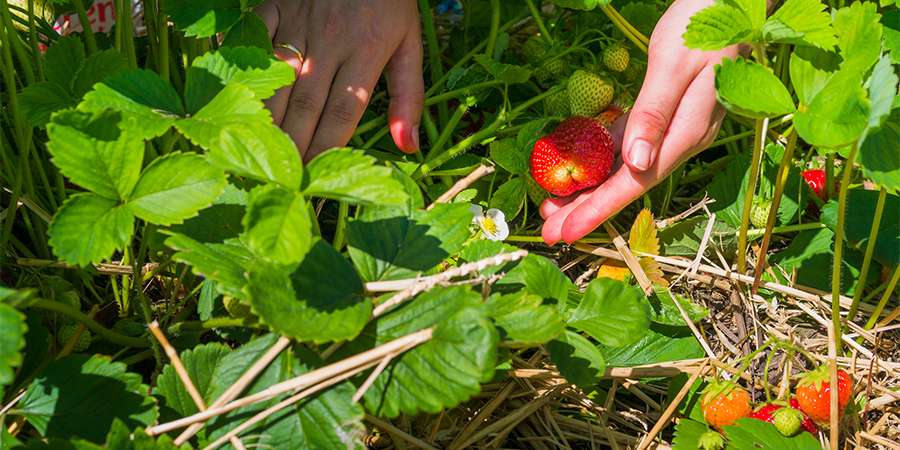ripe_strawberry: (523, 112, 620, 199), (793, 363, 857, 432), (700, 380, 756, 436), (796, 167, 841, 205)
unripe_strawberry: (747, 399, 820, 445), (521, 30, 568, 93), (30, 285, 84, 335), (568, 68, 615, 121), (56, 316, 96, 355), (526, 164, 552, 207), (749, 193, 777, 231), (771, 406, 805, 436), (599, 42, 630, 74), (222, 293, 258, 320), (594, 103, 630, 125)
